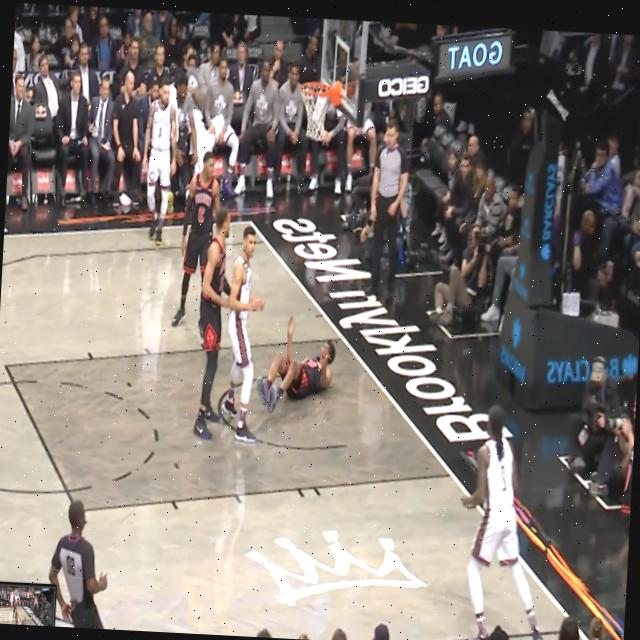foul: (168, 193, 358, 464)
